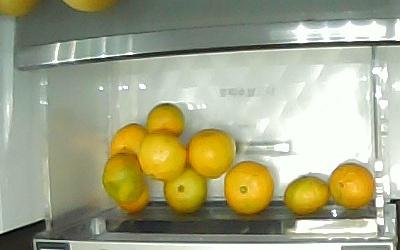tangerine: (101, 150, 151, 213), (222, 159, 274, 214), (137, 127, 187, 181), (187, 127, 236, 179), (326, 161, 375, 209), (162, 166, 208, 213), (282, 174, 331, 214), (106, 121, 149, 159), (145, 101, 185, 136)
